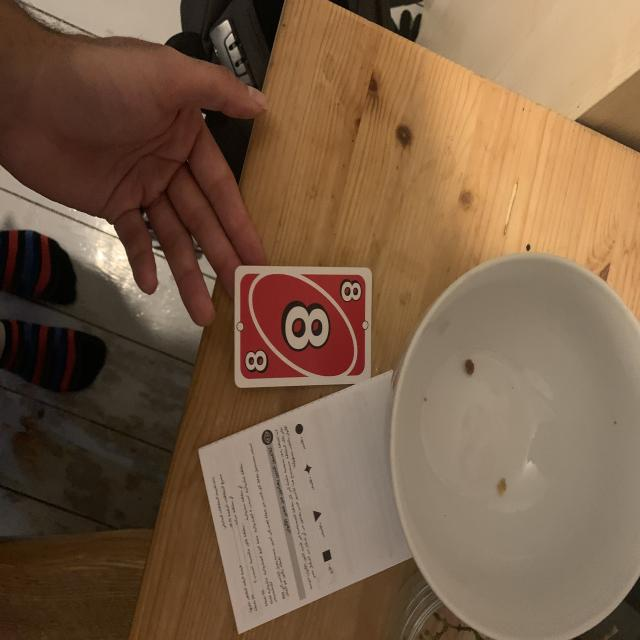lred-8: (336, 274, 366, 308)
